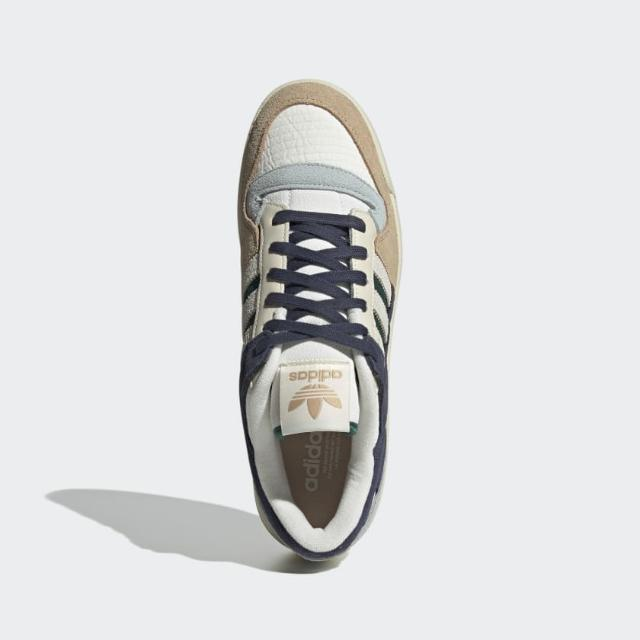Adidas: (286, 367, 346, 423), (288, 383, 344, 423), (290, 370, 344, 382)
